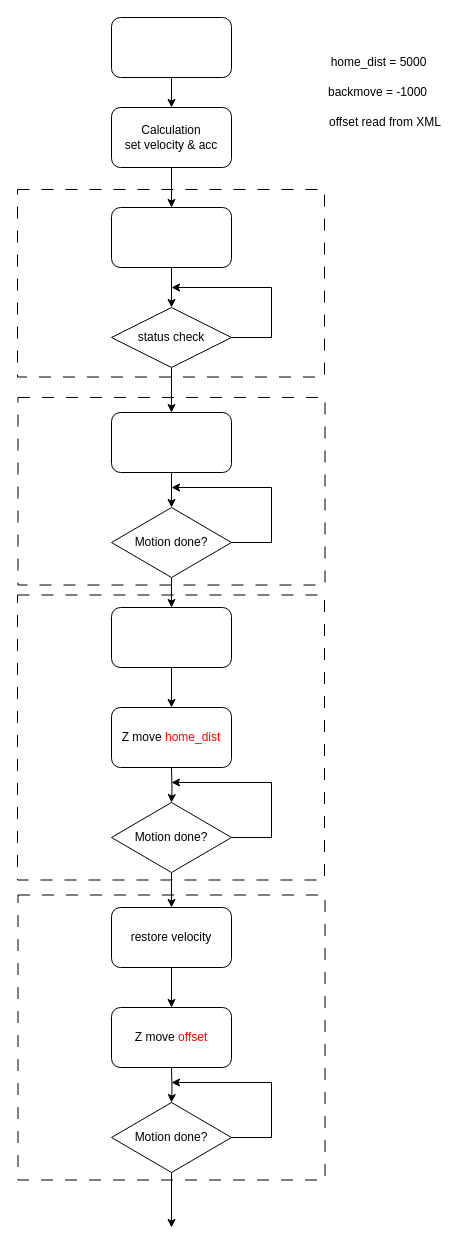
Image size: 462x1253. Some labels were removed from this diagram. Here are the shapes that lost their labels. From the top down, the box of each, then its label:
(110, 16, 232, 78): Read Homeoffset
(110, 206, 232, 268): start jogging?
(110, 412, 232, 472): Z move backmove
(110, 606, 232, 668): change to slow velocity
